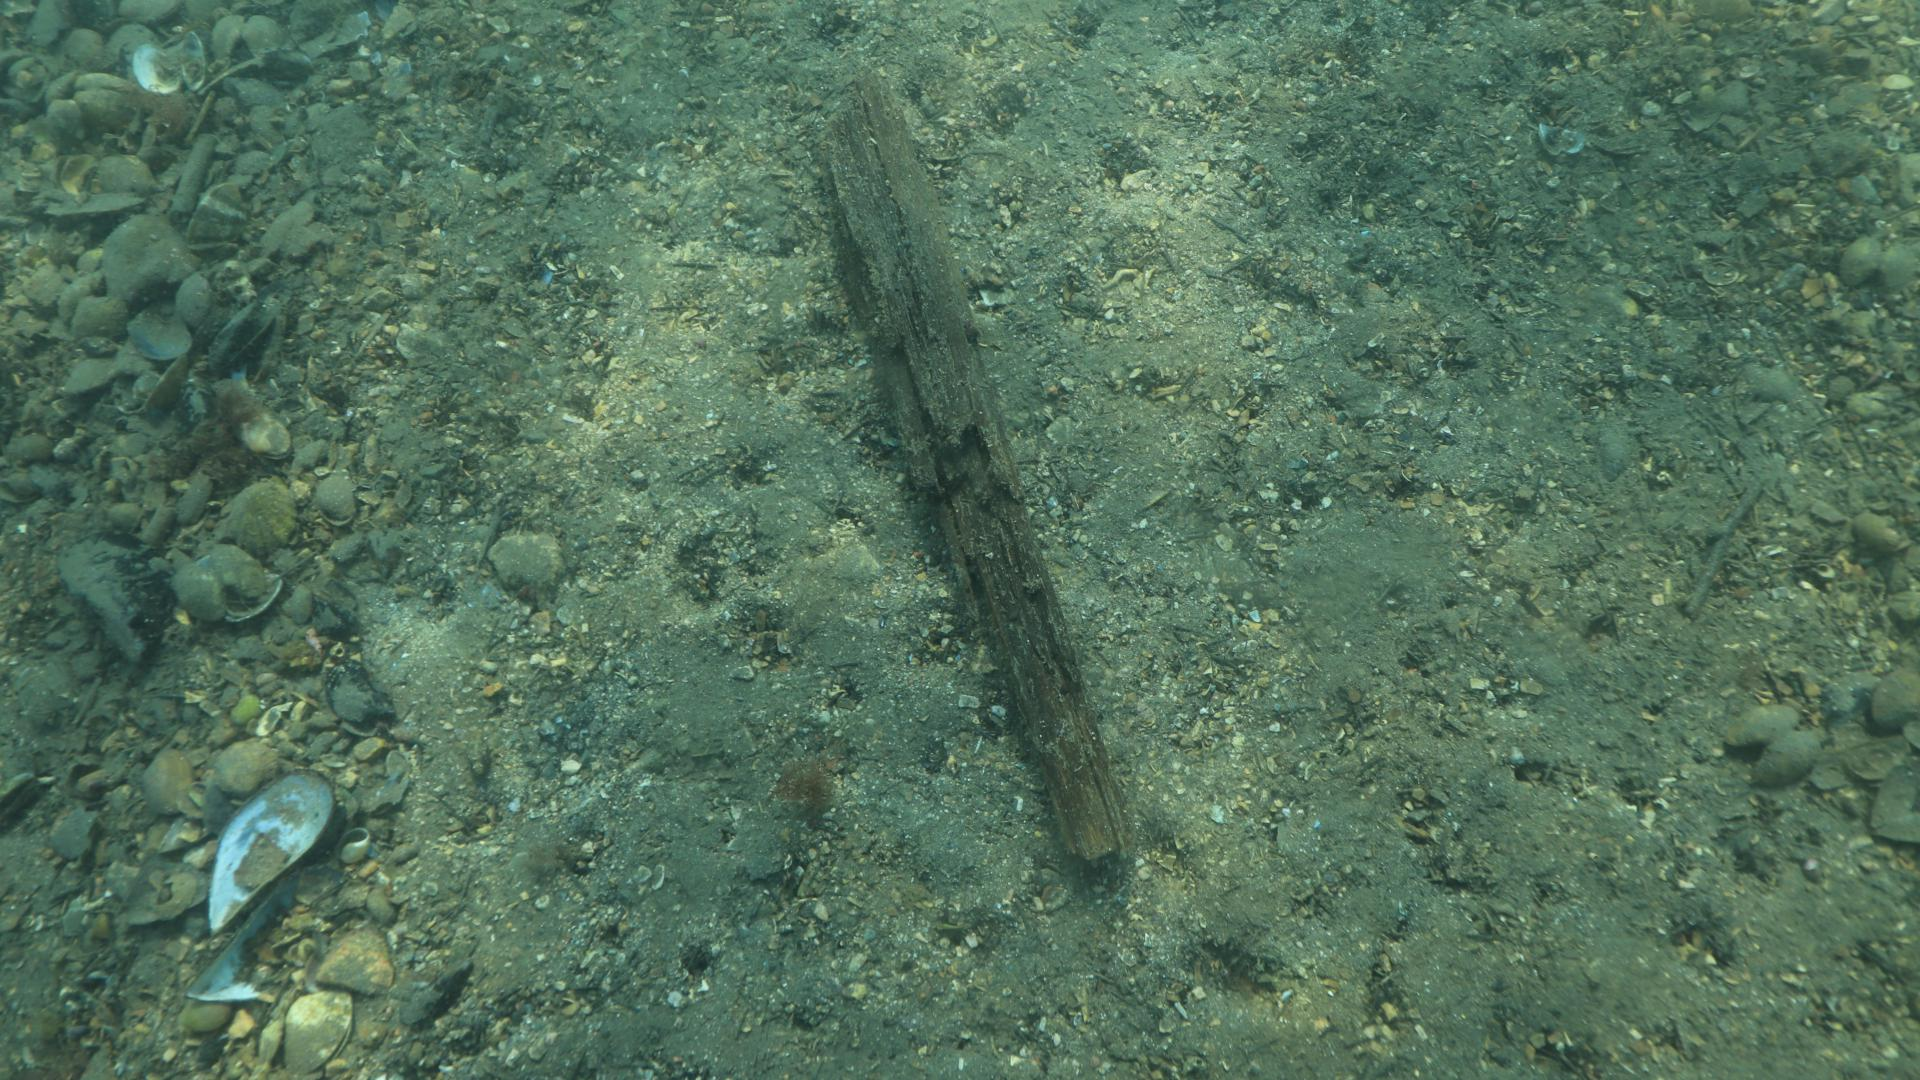wood: (818, 87, 1126, 861)
